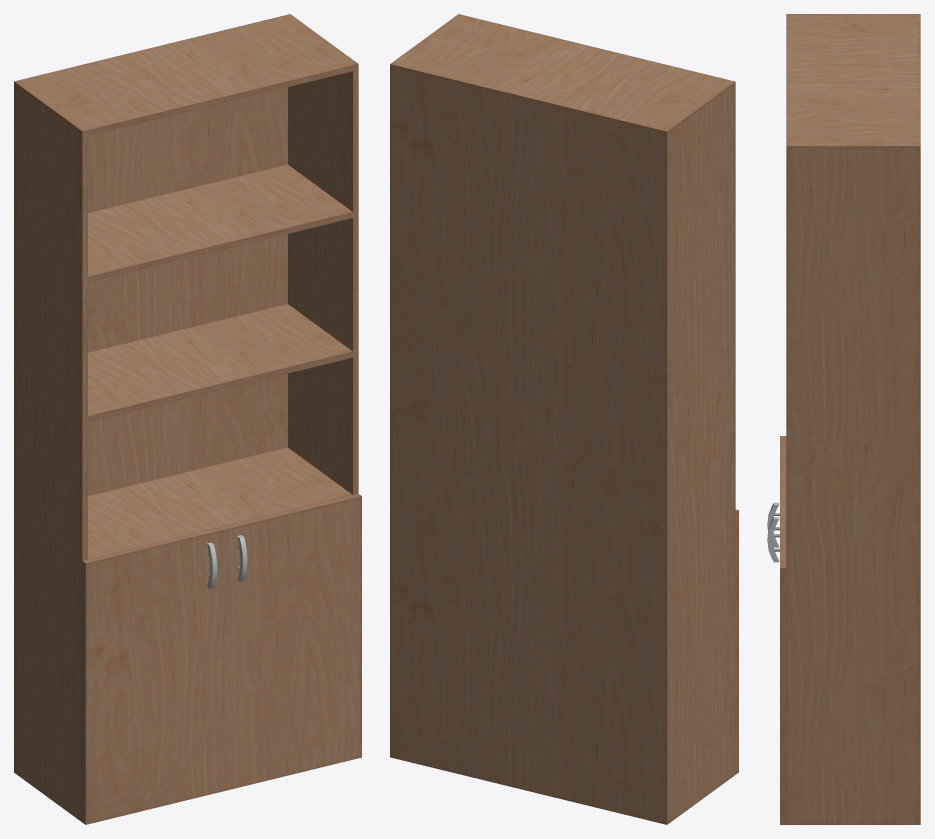
File: storage_cabinet.glb
The picture shows the model from 3 angles, left to right: view 1: azimuth 30°, elevation 25°; view 2: azimuth 150°, elevation 25°; view 3: azimuth 270°, elevation 25°; orthographic projection. The views are drawn at different scales.
Parts seen in each view (by area): view 1: shelf_lp; view 2: shelf_lp; view 3: shelf_lp.
Boxes of the visible parts, bbox=[...] form: shelf_lp: bbox=[14, 14, 361, 824]; shelf_lp: bbox=[390, 14, 738, 824]; shelf_lp: bbox=[767, 14, 920, 824].
Size of the model in its own units: 0.8352 by 2 by 0.4084.
1 material, 1 textured.
